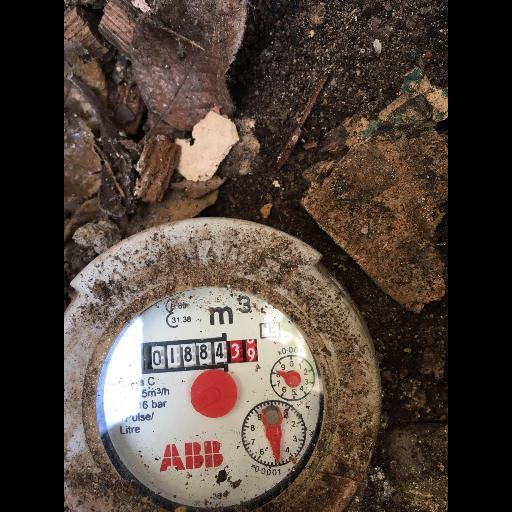0: (151, 345, 166, 369)
1: (166, 344, 181, 368)
3: (229, 340, 244, 364)
4: (213, 340, 228, 364)
8: (197, 342, 212, 366), (182, 343, 196, 367)
9: (244, 338, 258, 362)
border_water_meter_number: (142, 338, 258, 370)
